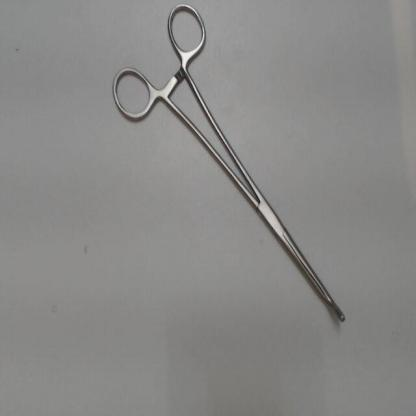Lahey Forceps: (99, 2, 354, 336)
